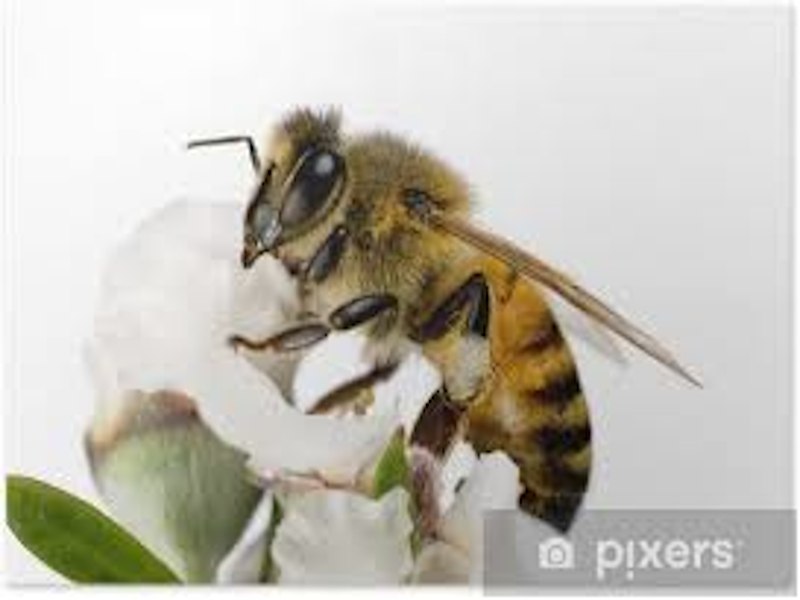abeja: (169, 102, 676, 553)
